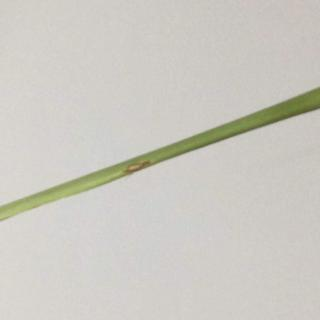Blast: (108, 147, 166, 188)
